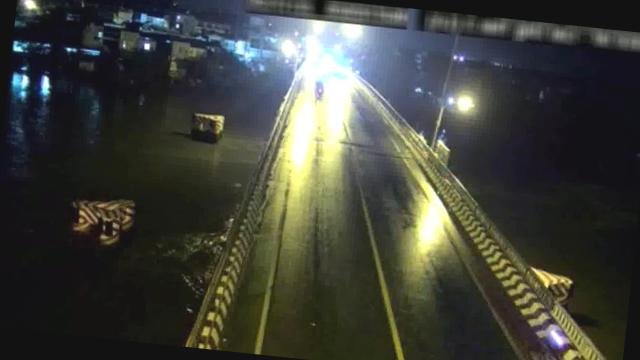Bike: (314, 77, 327, 98)
